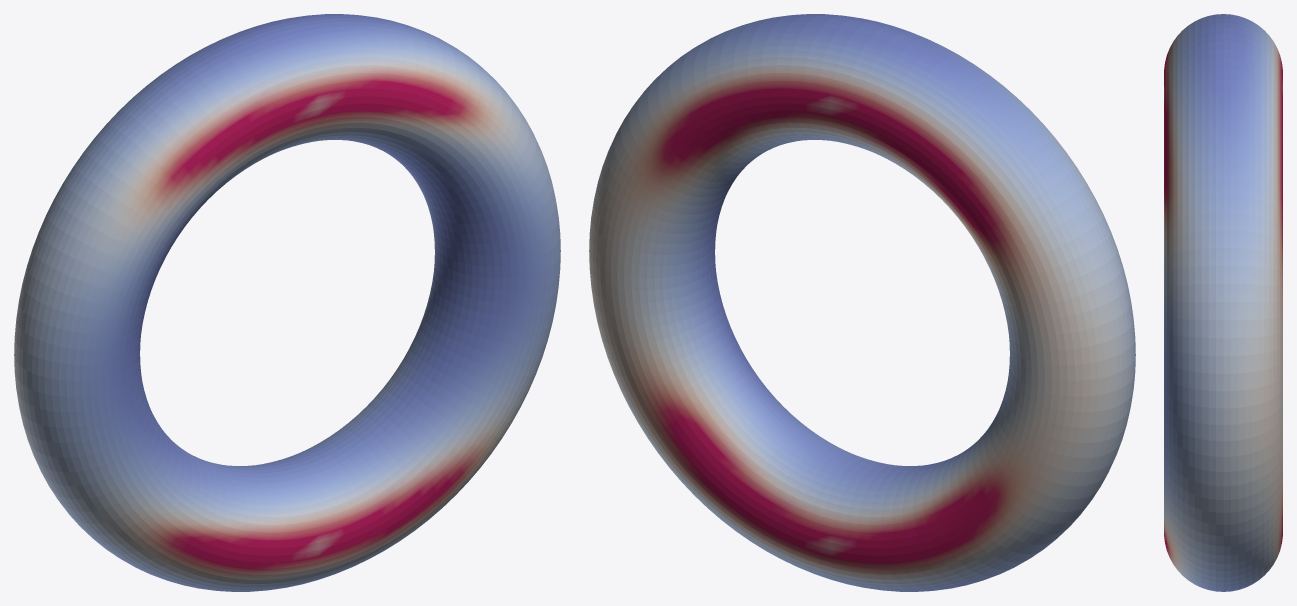
3 views of the same model, side by side, from view 1: azimuth 30°, elevation 25°; view 2: azimuth 150°, elevation 25°; view 3: azimuth 270°, elevation 25° (orthographic). The views are drawn at different scales.
Visible parts, largest first — view 1: world; view 2: world; view 3: world.
Part boxes in pixels (bbox=[...]): world: bbox=[14, 14, 560, 591]; world: bbox=[589, 14, 1135, 591]; world: bbox=[1164, 14, 1282, 591].
Size of the model in its own units: 22.67 by 22.67 by 4.66.
